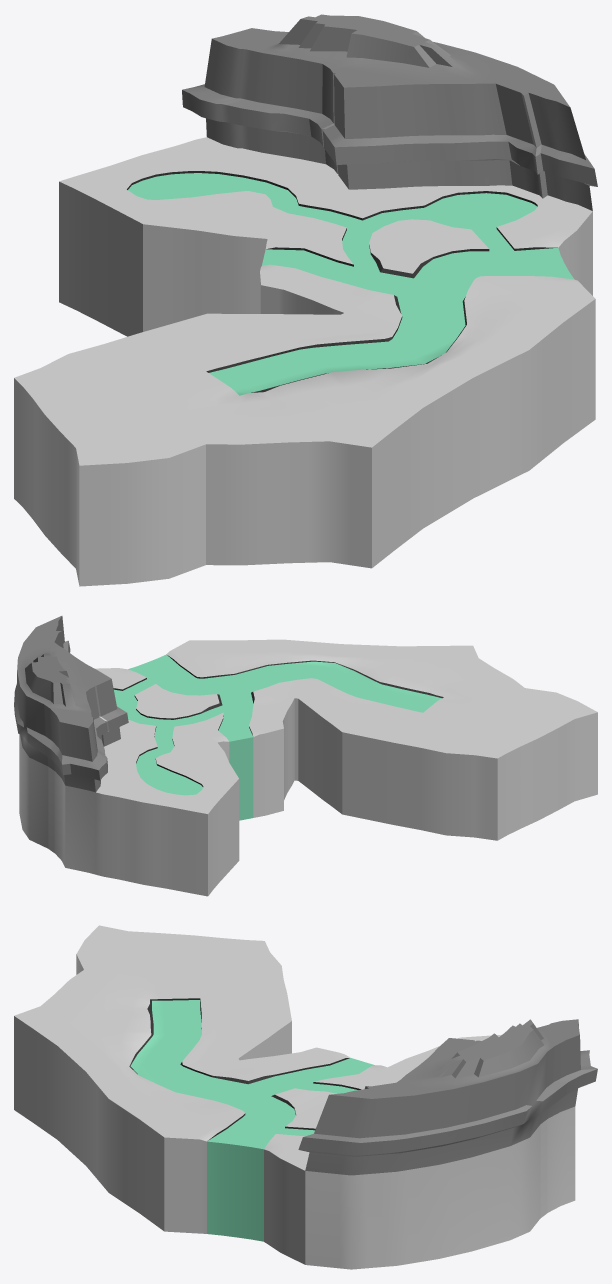
Rendered from spineisland.fbx.
3 renders of one model, top to bottom at view 1: azimuth 30°, elevation 25°; view 2: azimuth 150°, elevation 25°; view 3: azimuth 270°, elevation 25°, orthographic. The views are drawn at different scales.
Parts seen in each view (by area): view 1: SpineIsland; view 2: SpineIsland; view 3: SpineIsland.
Boxes of the visible parts, x1,y1,x2,y2 form: SpineIsland: [14, 14, 597, 586]; SpineIsland: [14, 616, 597, 896]; SpineIsland: [14, 925, 597, 1269].
Bounding box in the file's own units: 44881 × 15760 × 44009.
